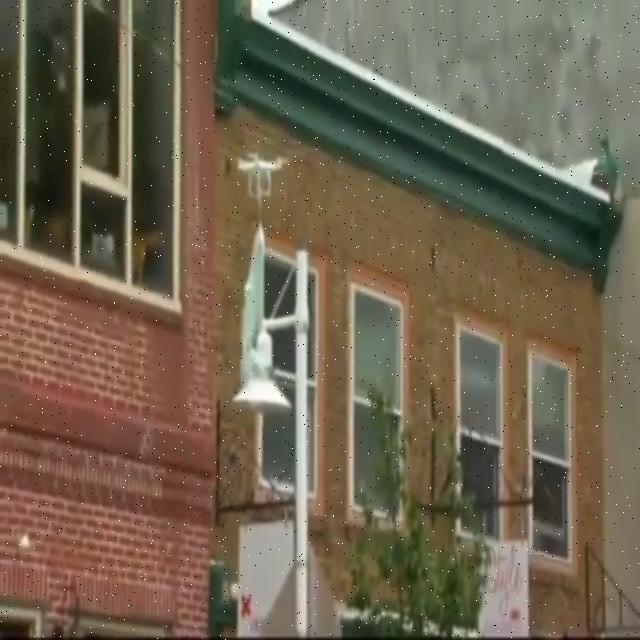UAV: (237, 153, 290, 201)
